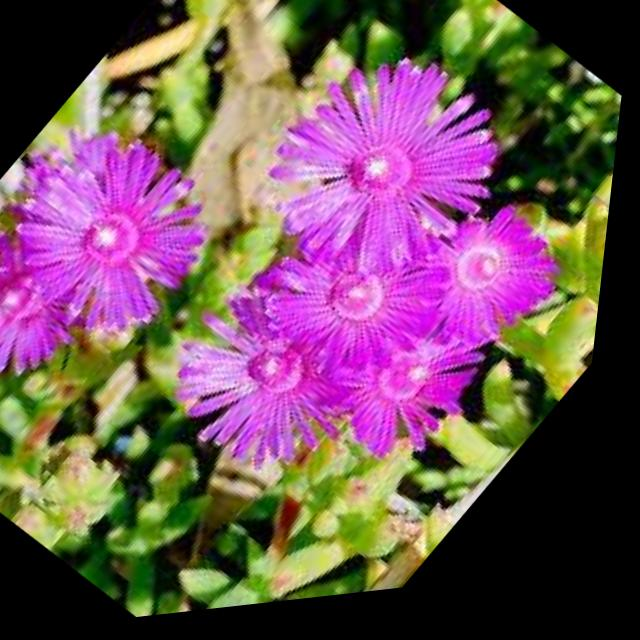Flower: (235, 11, 548, 322), (0, 93, 265, 384), (143, 250, 421, 523), (228, 162, 502, 437), (373, 176, 596, 396), (293, 294, 507, 505), (0, 219, 126, 410)
